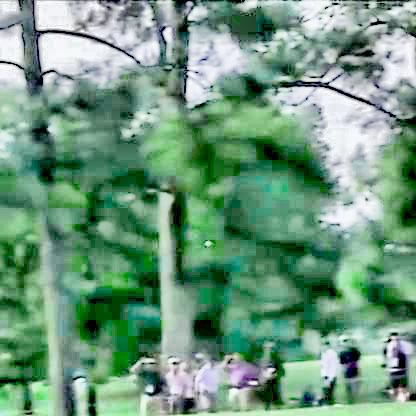golfball: (202, 237, 212, 244)
